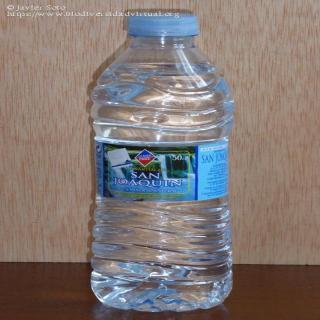Plastic-bottle: (86, 10, 238, 318)
